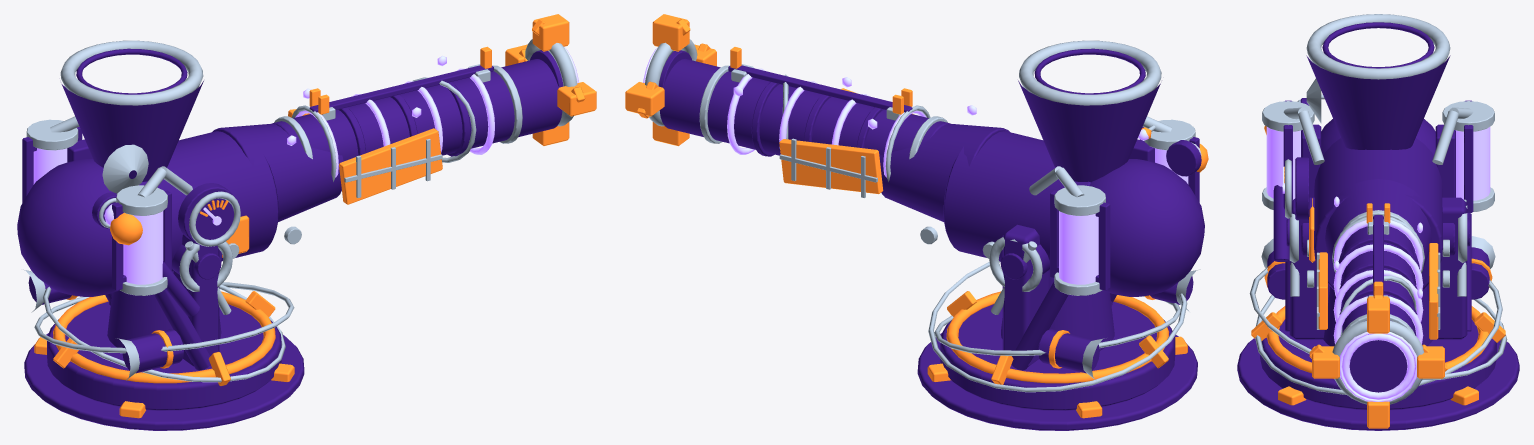
The model's file is slop-cannon-stellar-voyager.glb.
3 renders of one model, left to right at view 1: azimuth 30°, elevation 25°; view 2: azimuth 150°, elevation 25°; view 3: azimuth 270°, elevation 25°, orthographic.
Visible parts, largest first — view 1: CannonRecoilRender, CannonRootRender, CannonYawRender, CANNON_V3_AmmoGlowMesh, CANNON_V3_ChargeGlowMesh; view 2: CannonRecoilRender, CannonRootRender, CannonYawRender, CANNON_V3_AmmoGlowMesh, CANNON_V3_ChargeGlowMesh; view 3: CannonRecoilRender, CannonRootRender, CannonYawRender, CANNON_V3_ChargeGlowMesh, CANNON_V3_AmmoGlowMesh, CANNON_V3_MuzzleGlowMesh.
Part boxes in pixels (x1,y1,x2,y2): CannonRecoilRender: (17,14,596,316); CannonRootRender: (24,271,304,430); CannonYawRender: (23,234,232,380); CANNON_V3_AmmoGlowMesh: (33,148,163,284); CANNON_V3_ChargeGlowMesh: (287,55,494,177); CannonRecoilRender: (625,14,1208,296); CannonRootRender: (917,261,1197,430); CannonYawRender: (989,224,1200,380); CANNON_V3_AmmoGlowMesh: (1059,148,1188,284); CANNON_V3_ChargeGlowMesh: (727,68,1148,177); CannonRecoilRender: (1262,14,1494,428); CannonRootRender: (1237,267,1519,430); CannonYawRender: (1261,197,1495,340); CANNON_V3_ChargeGlowMesh: (1333,196,1423,344); CANNON_V3_AmmoGlowMesh: (1266,127,1490,200); CANNON_V3_MuzzleGlowMesh: (1340,332,1416,401).
Bounding box in the file's own units: 4.66 × 2.59 × 2.1.
